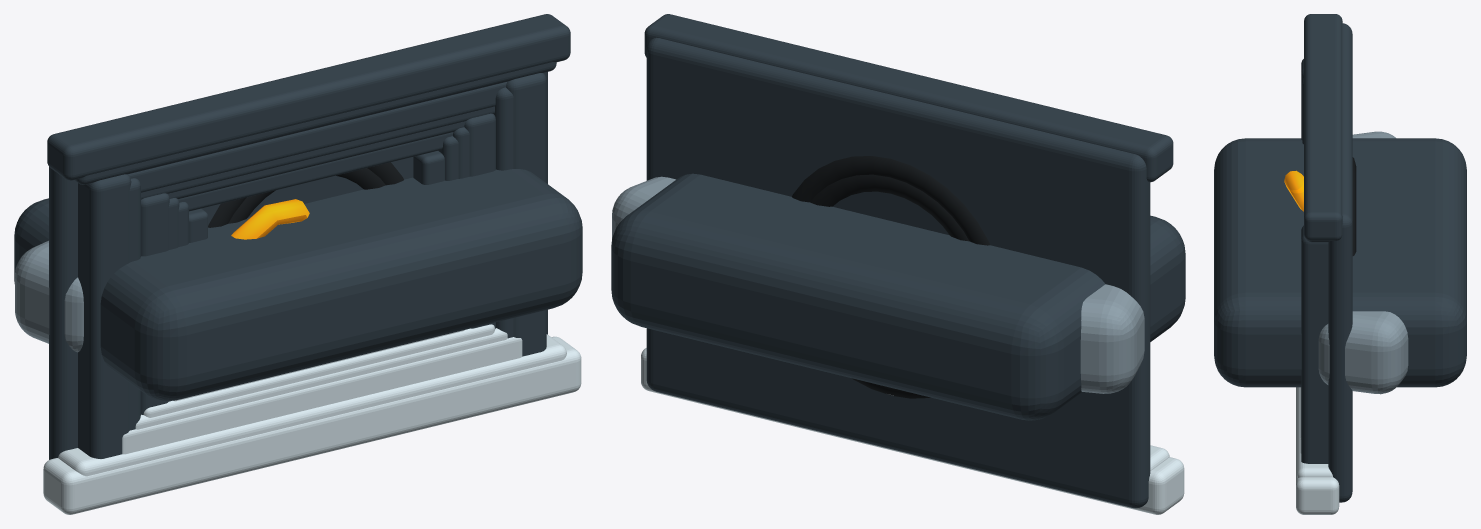
File: body_07.glb
3 renders of one model, left to right at view 1: azimuth 30°, elevation 25°; view 2: azimuth 150°, elevation 25°; view 3: azimuth 270°, elevation 25°, orthographic. The views are drawn at different scales.
Parts seen in each view (by area): view 1: asset_mesh__body_0431__reference_body, asset_mesh__body_0422__lower_flange, asset_mesh__body_0422__upper_flange, asset_mesh__body_0422__left_reinforcement, asset_mesh__body_0422__stamped_sheet, asset_mesh__body_0427__upper_flange, asset_mesh__body_0427__lower_flange, asset_mesh__body_0421__upper_flange, asset_mesh__body_0422__right_reinforcement, asset_mesh__body_0421__lower_flange, asset_mesh__body_0438__left_return, asset_mesh__body_0423__lower_flange (+14 smaller); view 2: asset_mesh__body_0422__stamped_sheet, asset_mesh__body_0431__reference_body, asset_mesh__body_0422__lower_flange, asset_mesh__body_0438__left_return, asset_mesh__body_0428__service_element, asset_mesh__body_0422__upper_flange, asset_mesh__body_0444__service_element, asset_mesh__body_0438__right_return; view 3: asset_mesh__body_0431__reference_body, asset_mesh__body_0422__lower_flange, asset_mesh__body_0422__stamped_sheet, asset_mesh__body_0422__right_reinforcement, asset_mesh__body_0438__right_return, asset_mesh__body_0422__upper_flange, asset_mesh__body_0421__upper_flange, asset_mesh__body_0441__fluid_path, asset_mesh__body_0428__service_element.
Part boxes in pixels (x1,y1,x2,y2): asset_mesh__body_0431__reference_body: (14,169,582,401); asset_mesh__body_0422__lower_flange: (47,14,570,180); asset_mesh__body_0422__upper_flange: (43,336,581,514); asset_mesh__body_0422__left_reinforcement: (78,174,131,458); asset_mesh__body_0422__stamped_sheet: (49,72,547,459); asset_mesh__body_0427__upper_flange: (122,337,522,454); asset_mesh__body_0427__lower_flange: (128,82,506,192); asset_mesh__body_0421__upper_flange: (58,334,566,476); asset_mesh__body_0422__right_reinforcement: (506,73,546,356); asset_mesh__body_0421__lower_flange: (74,62,556,184); asset_mesh__body_0438__left_return: (15,240,83,352); asset_mesh__body_0423__lower_flange: (178,132,453,211); asset_mesh__body_0422__stamped_sheet: (646,37,1150,508); asset_mesh__body_0431__reference_body: (611,173,1185,420); asset_mesh__body_0422__lower_flange: (644,14,1173,182); asset_mesh__body_0438__left_return: (1080,284,1144,393); asset_mesh__body_0428__service_element: (792,156,989,398); asset_mesh__body_0422__upper_flange: (641,348,1184,514); asset_mesh__body_0444__service_element: (810,174,968,241); asset_mesh__body_0438__right_return: (612,176,675,238); asset_mesh__body_0431__reference_body: (1214,138,1466,387); asset_mesh__body_0422__lower_flange: (1304,14,1342,240); asset_mesh__body_0422__stamped_sheet: (1328,23,1352,502); asset_mesh__body_0422__right_reinforcement: (1301,225,1328,463); asset_mesh__body_0438__right_return: (1318,311,1408,394); asset_mesh__body_0422__upper_flange: (1296,387,1339,514); asset_mesh__body_0421__upper_flange: (1297,387,1332,477); asset_mesh__body_0441__fluid_path: (1284,170,1303,211); asset_mesh__body_0428__service_element: (1352,157,1356,255).
Size of the model in its own units: 1.72 by 1.15 by 0.882.
